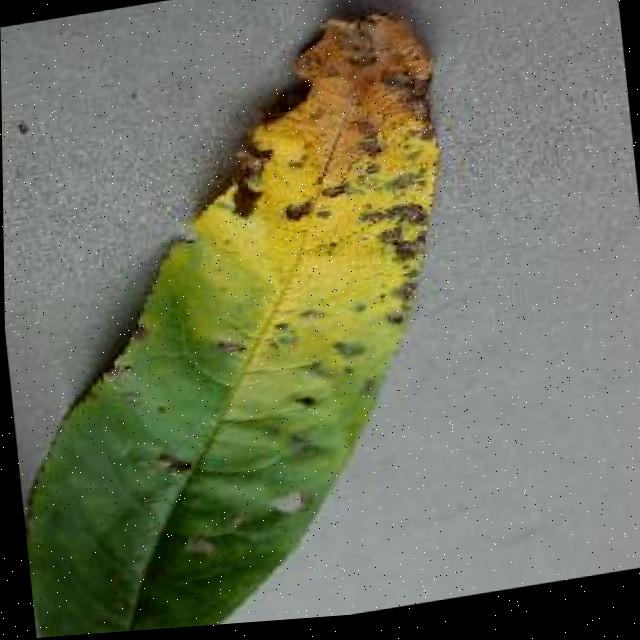Bacterial_spot: (61, 0, 487, 593)
